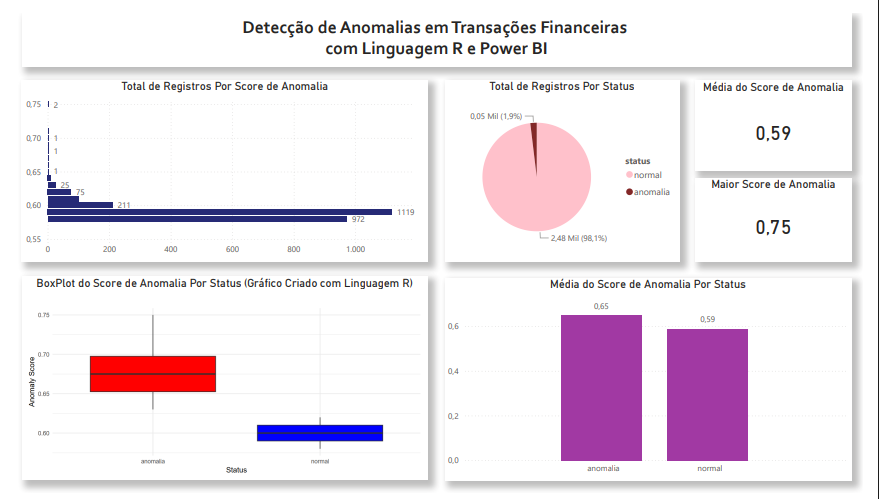

What the dashboard file says about the page in this screenshot:
{"tool":"powerbi","page":{"name":"Lab8","canvas":[1280,720],"ordinal":0},"visuals":[{"type":"pieChart","title":"Total de Registros Por Status","fields":{"Category":["previsoes_novos_dados.status"],"Y":["CountNonNull(previsoes_novos_dados.id)"]},"box":[652.7,99.5,352.7,273.7],"z":0},{"type":"scriptVisual","title":"BoxPlot do Score de Anomalia Por Status (Gráfico Criado com Linguagem R)","fields":{"Values":["previsoes_novos_dados.status","previsoes_novos_dados.anomaly_score"]},"box":[18.9,394.6,608.4,306.6],"z":1000},{"type":"barChart","title":"Total de Registros Por Score de Anomalia","fields":{"Category":["previsoes_novos_dados.anomaly_score"],"Y":["CountNonNull(previsoes_novos_dados.anomaly_score)"]},"box":[19,99.5,608.8,273.7],"z":2000},{"type":"columnChart","title":"Média do Score de Anomalia Por Status","fields":{"Category":["previsoes_novos_dados.status"],"Y":["Avg(previsoes_novos_dados.anomaly_score)"]},"box":[652.7,396.6,610.2,304.4],"z":3000},{"type":"card","title":"Média do Score de Anomalia","fields":{"Values":["Avg(previsoes_novos_dados.anomaly_score)"]},"box":[1028.8,101,234.1,136.1],"z":4000},{"type":"card","title":"Maior Score de Anomalia","fields":{"Values":["Max(previsoes_novos_dados.anomaly_score)"]},"box":[1028.8,247.3,234.1,125.9],"z":5000},{"type":"textbox","box":[19,0,1243.9,80.5],"z":6000}]}

Visuals, with their boxes in screenshot pixels (x1, y1, x2, y2), scaled from the page's 1280x720 canvas onto the 879x499 screenshot:
"Total de Registros Por Status" pieChart: {"x1": 448, "y1": 69, "x2": 690, "y2": 259}
"BoxPlot do Score de Anomalia Por Status (Gráfico Criado com Linguagem R)" scriptVisual: {"x1": 13, "y1": 273, "x2": 431, "y2": 486}
"Total de Registros Por Score de Anomalia" barChart: {"x1": 13, "y1": 69, "x2": 431, "y2": 259}
"Média do Score de Anomalia Por Status" columnChart: {"x1": 448, "y1": 275, "x2": 867, "y2": 486}
"Média do Score de Anomalia" card: {"x1": 706, "y1": 70, "x2": 867, "y2": 164}
"Maior Score de Anomalia" card: {"x1": 706, "y1": 171, "x2": 867, "y2": 259}
textbox: {"x1": 13, "y1": 0, "x2": 867, "y2": 56}
